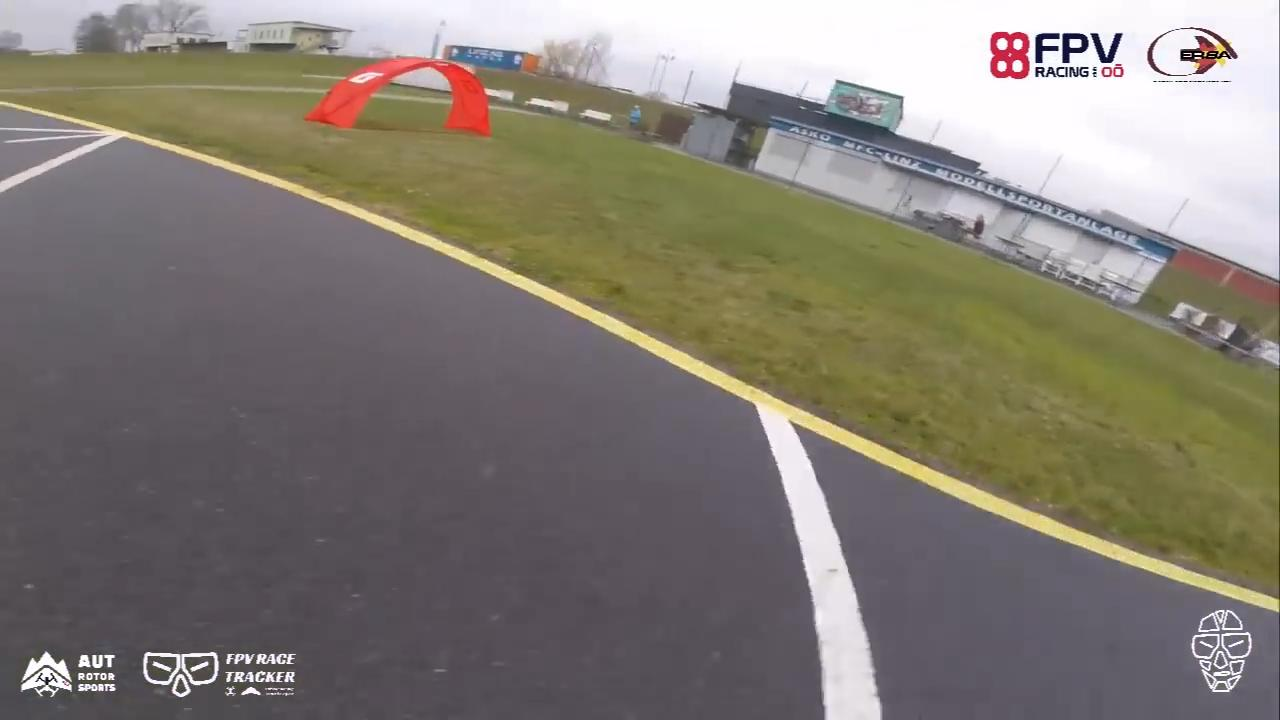gate: (306, 53, 497, 140)
